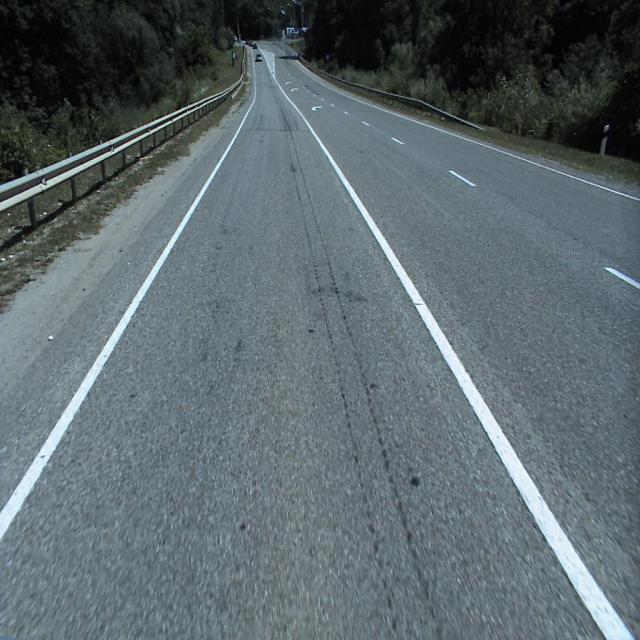road: (0, 41, 640, 639)
